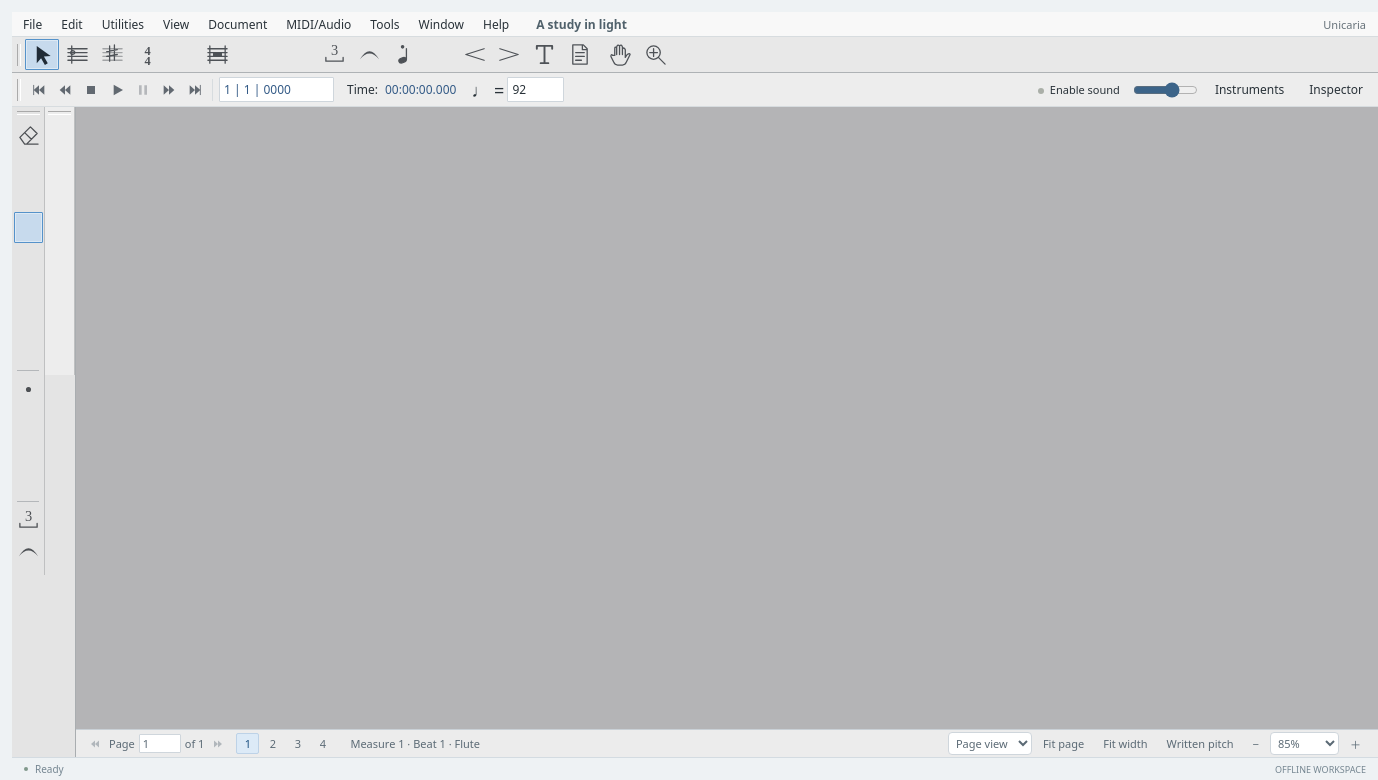
Test: familiar score editing gestures › Pause resumes at the same elapsed performance position, and Stop resets the counter
Click the button named "Play score" at (116, 90), box [103,76,128,103]
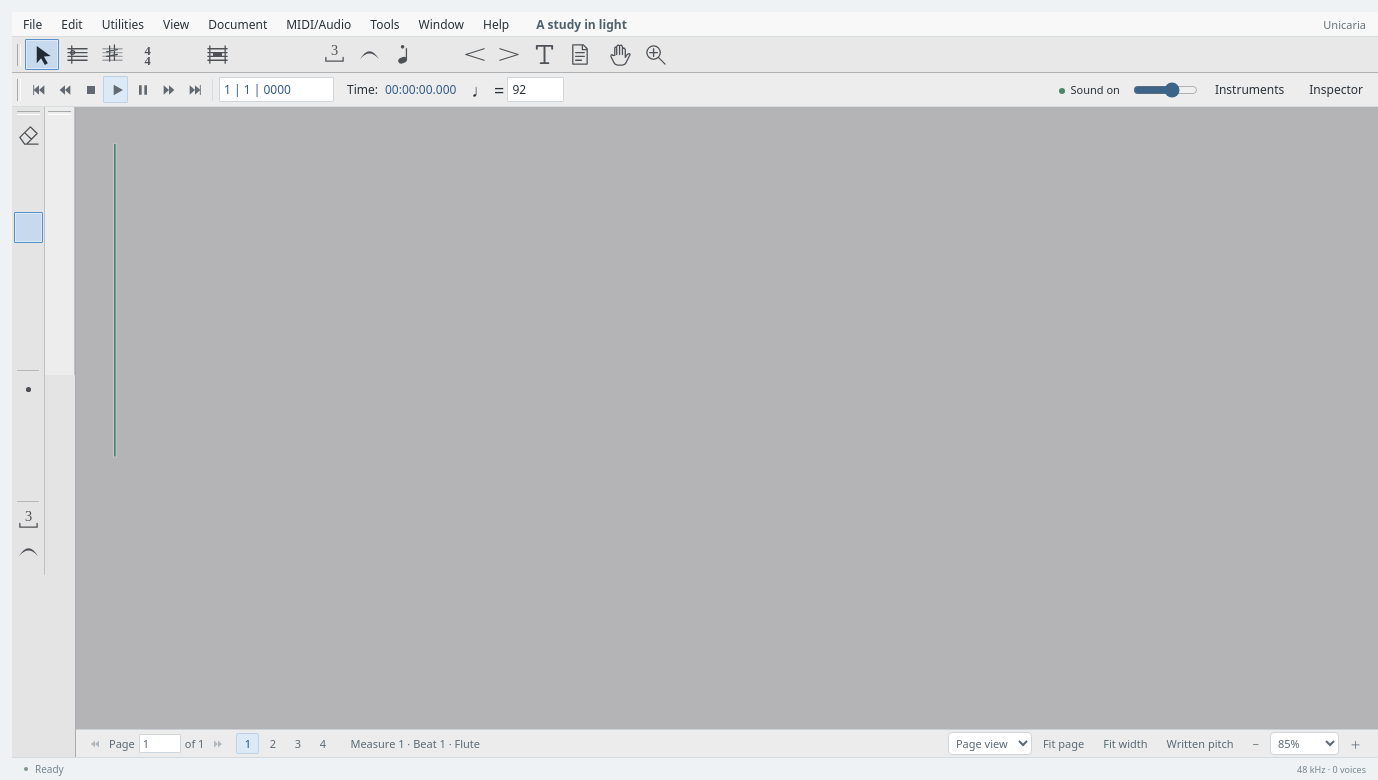
Click the button named "Pause playback" at (142, 90), box [129,76,154,103]
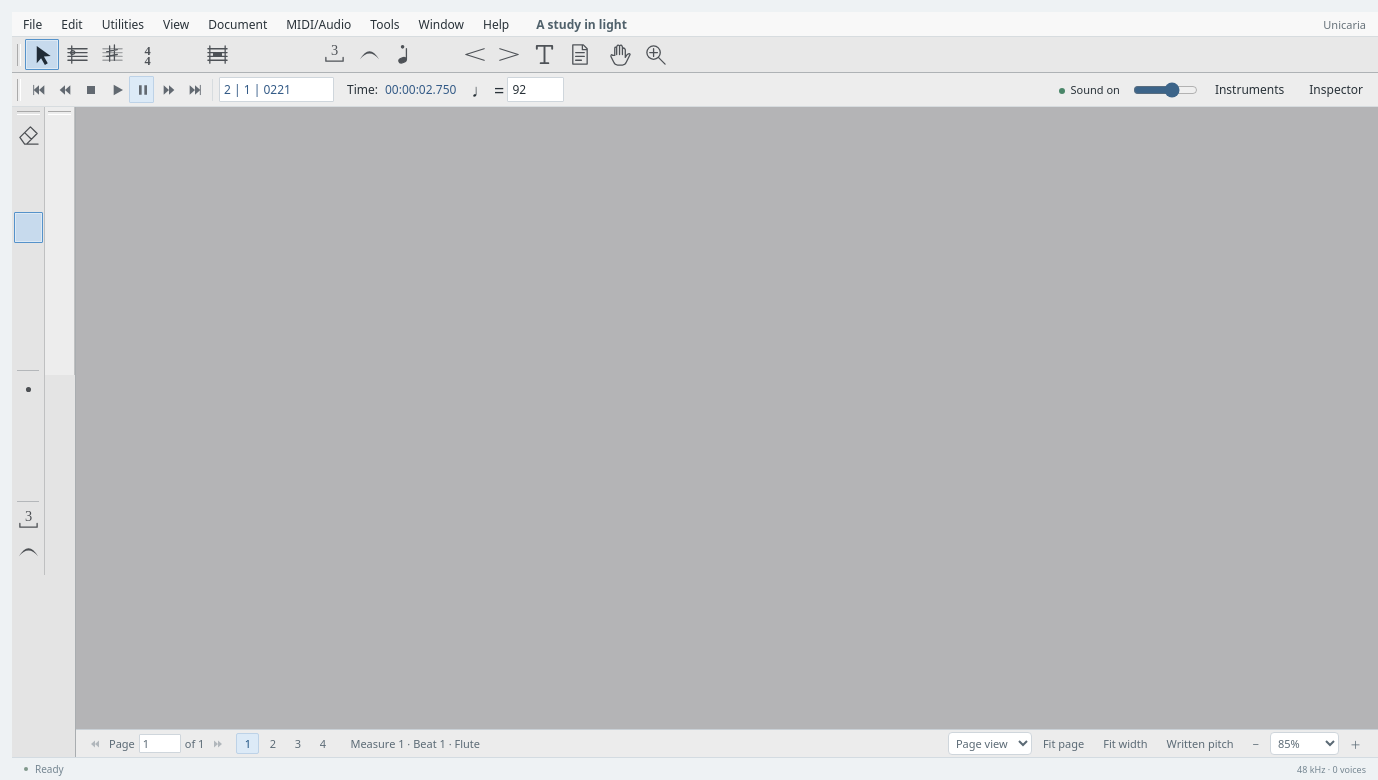
Check: the button named "Pause playback" is pressed, box [129,76,154,103]
Click the button named "Play score" at (116, 90), box [103,76,128,103]
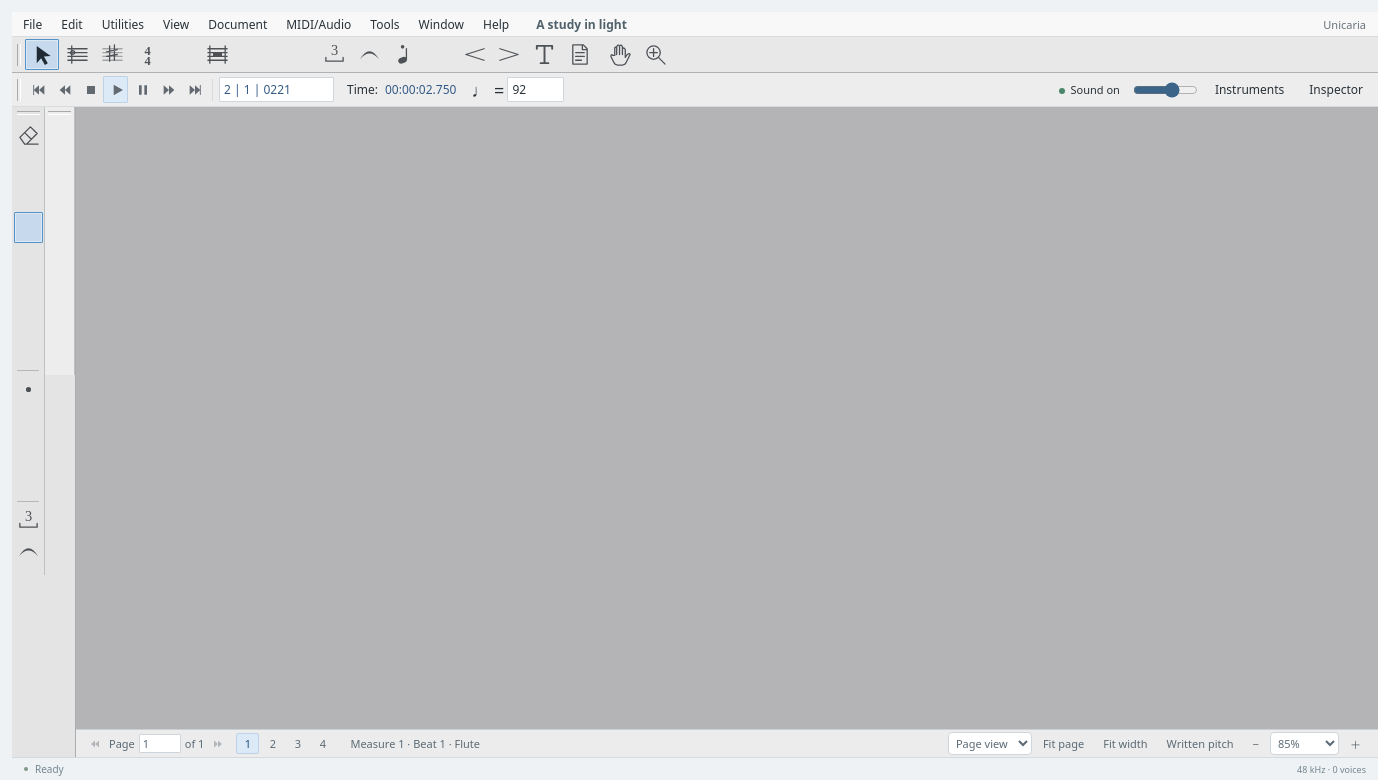
Click the button named "Stop all sound (Escape)" at (90, 90), box [77,76,102,103]
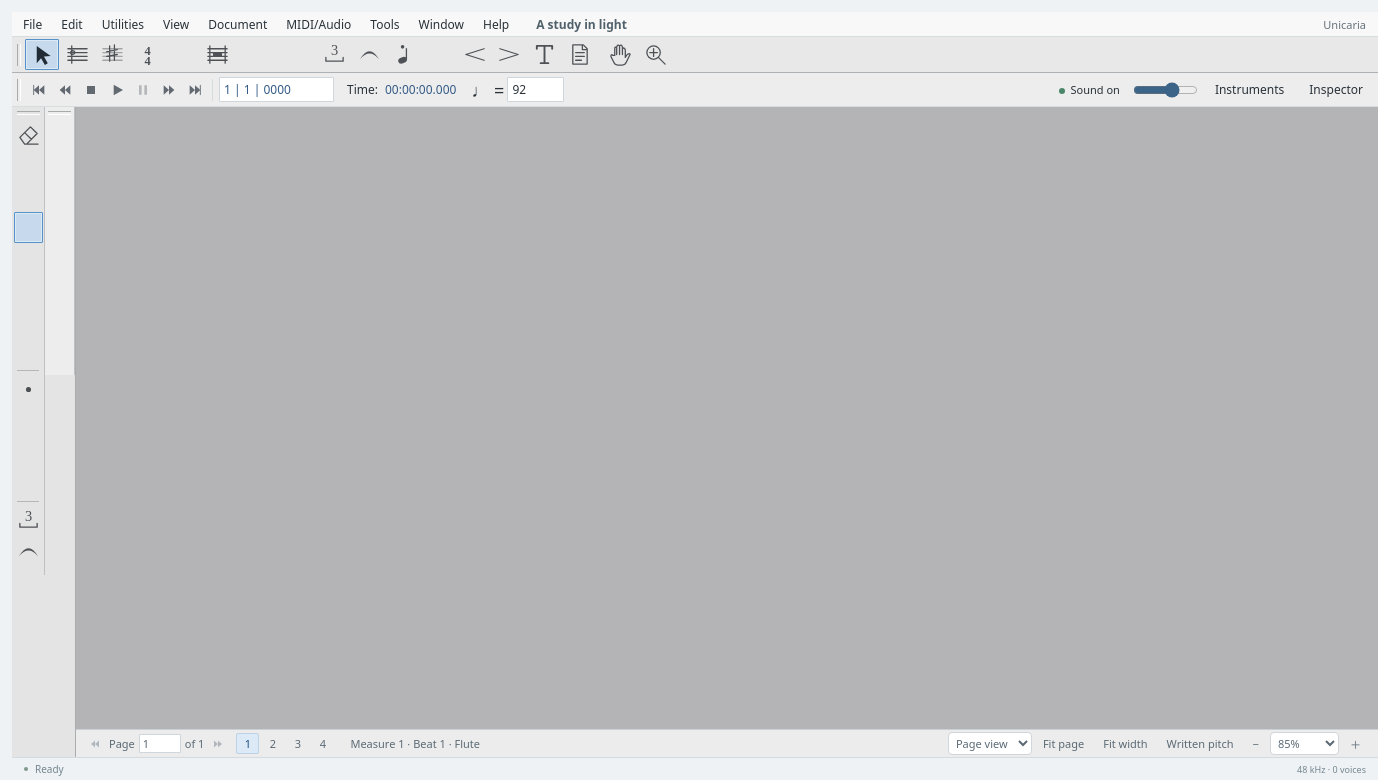
Check: the field named "Playback position" holds "1 | 1 | 0000", box [219,77,334,102]
